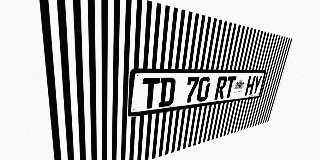0: (196, 77, 211, 102)
7: (183, 77, 199, 104)
D: (158, 77, 176, 107)
H: (244, 76, 256, 96)
R: (214, 76, 228, 100)
T: (141, 78, 160, 110), (224, 76, 237, 99)
Y: (251, 76, 262, 95)
